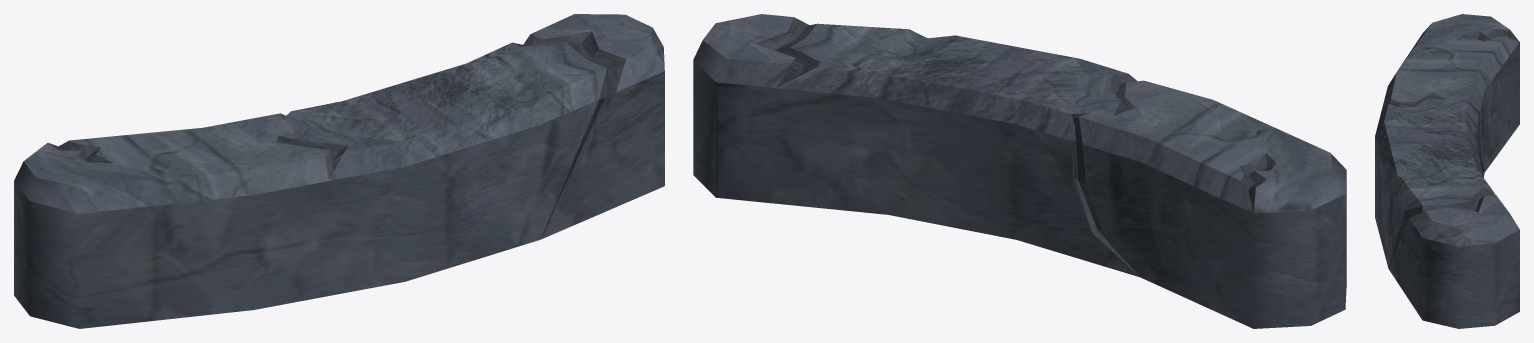
Rendered from StandAlone01.glb.
The picture shows the model from 3 angles, left to right: view 1: azimuth 30°, elevation 25°; view 2: azimuth 150°, elevation 25°; view 3: azimuth 270°, elevation 25°; orthographic projection. The views are drawn at different scales.
Parts seen in each view (by area): view 1: StandAlone01; view 2: StandAlone01; view 3: StandAlone01.
Part boxes in pixels (left/top/right/bottom): StandAlone01: left=14, top=14, right=664, bottom=328; StandAlone01: left=693, top=14, right=1346, bottom=328; StandAlone01: left=1375, top=14, right=1519, bottom=328.
Size of what is drawn, in the model's own units: 17.69 by 3.59 by 4.88.
1 material, 1 textured.
